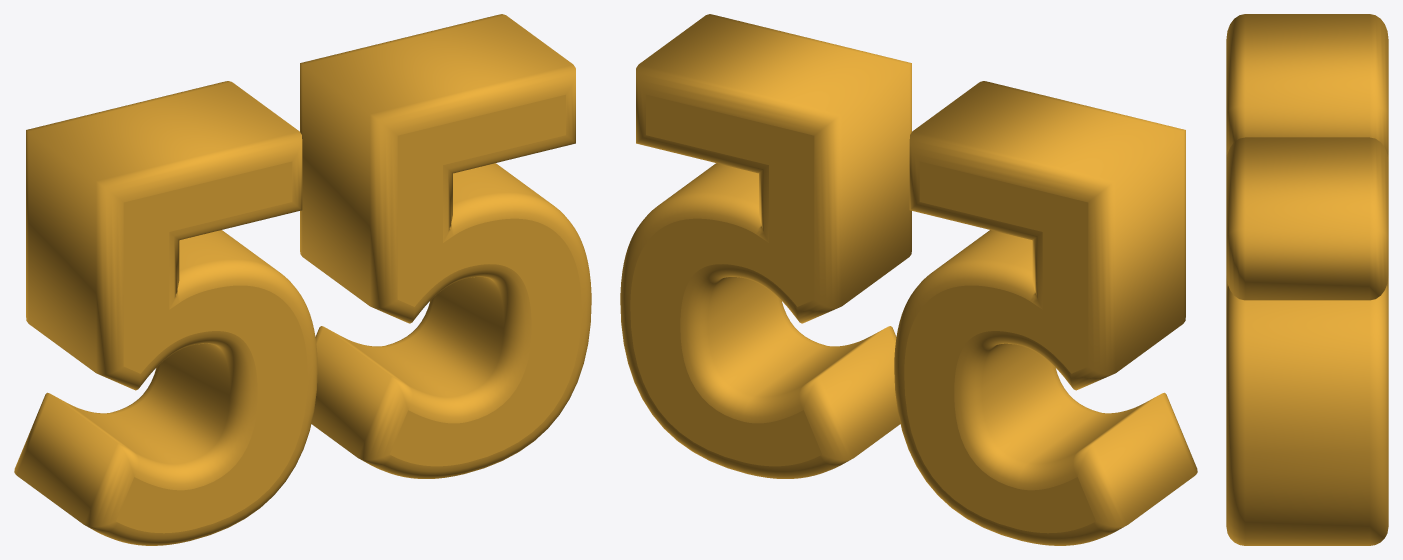
3 renders of one model, left to right at view 1: azimuth 30°, elevation 25°; view 2: azimuth 150°, elevation 25°; view 3: azimuth 270°, elevation 25°, orthographic. The views are drawn at different scales.
Parts seen in each view (by area): view 1: Text; view 2: Text; view 3: Text.
Part boxes in pixels (left/top/right/bottom): Text: left=14, top=14, right=591, bottom=545; Text: left=620, top=14, right=1197, bottom=545; Text: left=1226, top=14, right=1388, bottom=545.
Bounding box in the file's own units: 86.46 × 62.24 × 26.
